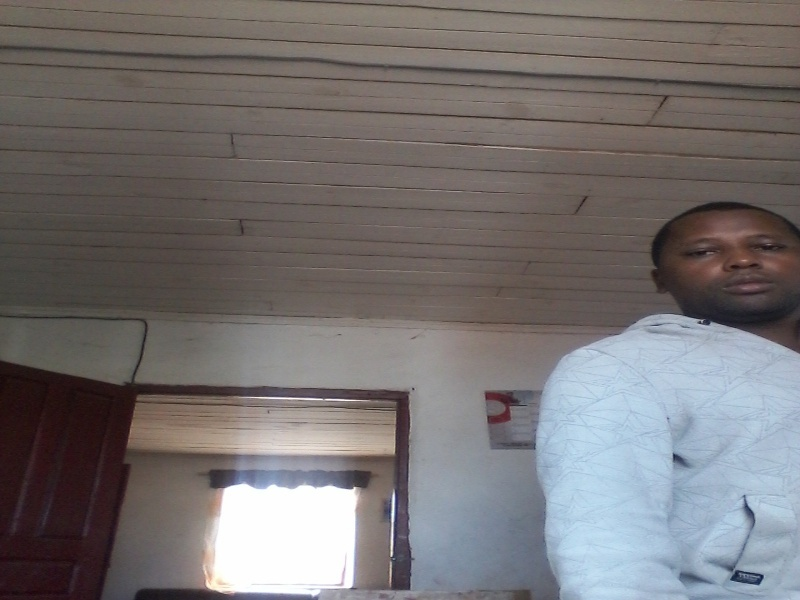TsisyArotava: (637, 192, 800, 345)
